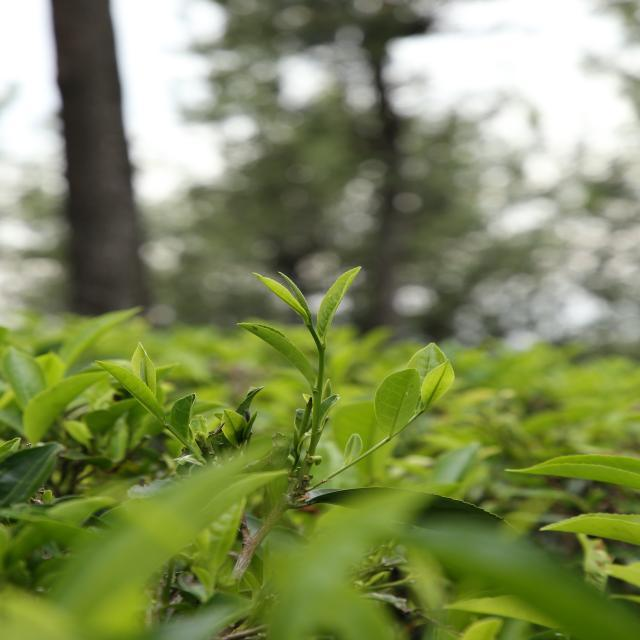Stem: (410, 410, 424, 421), (319, 351, 324, 372)
